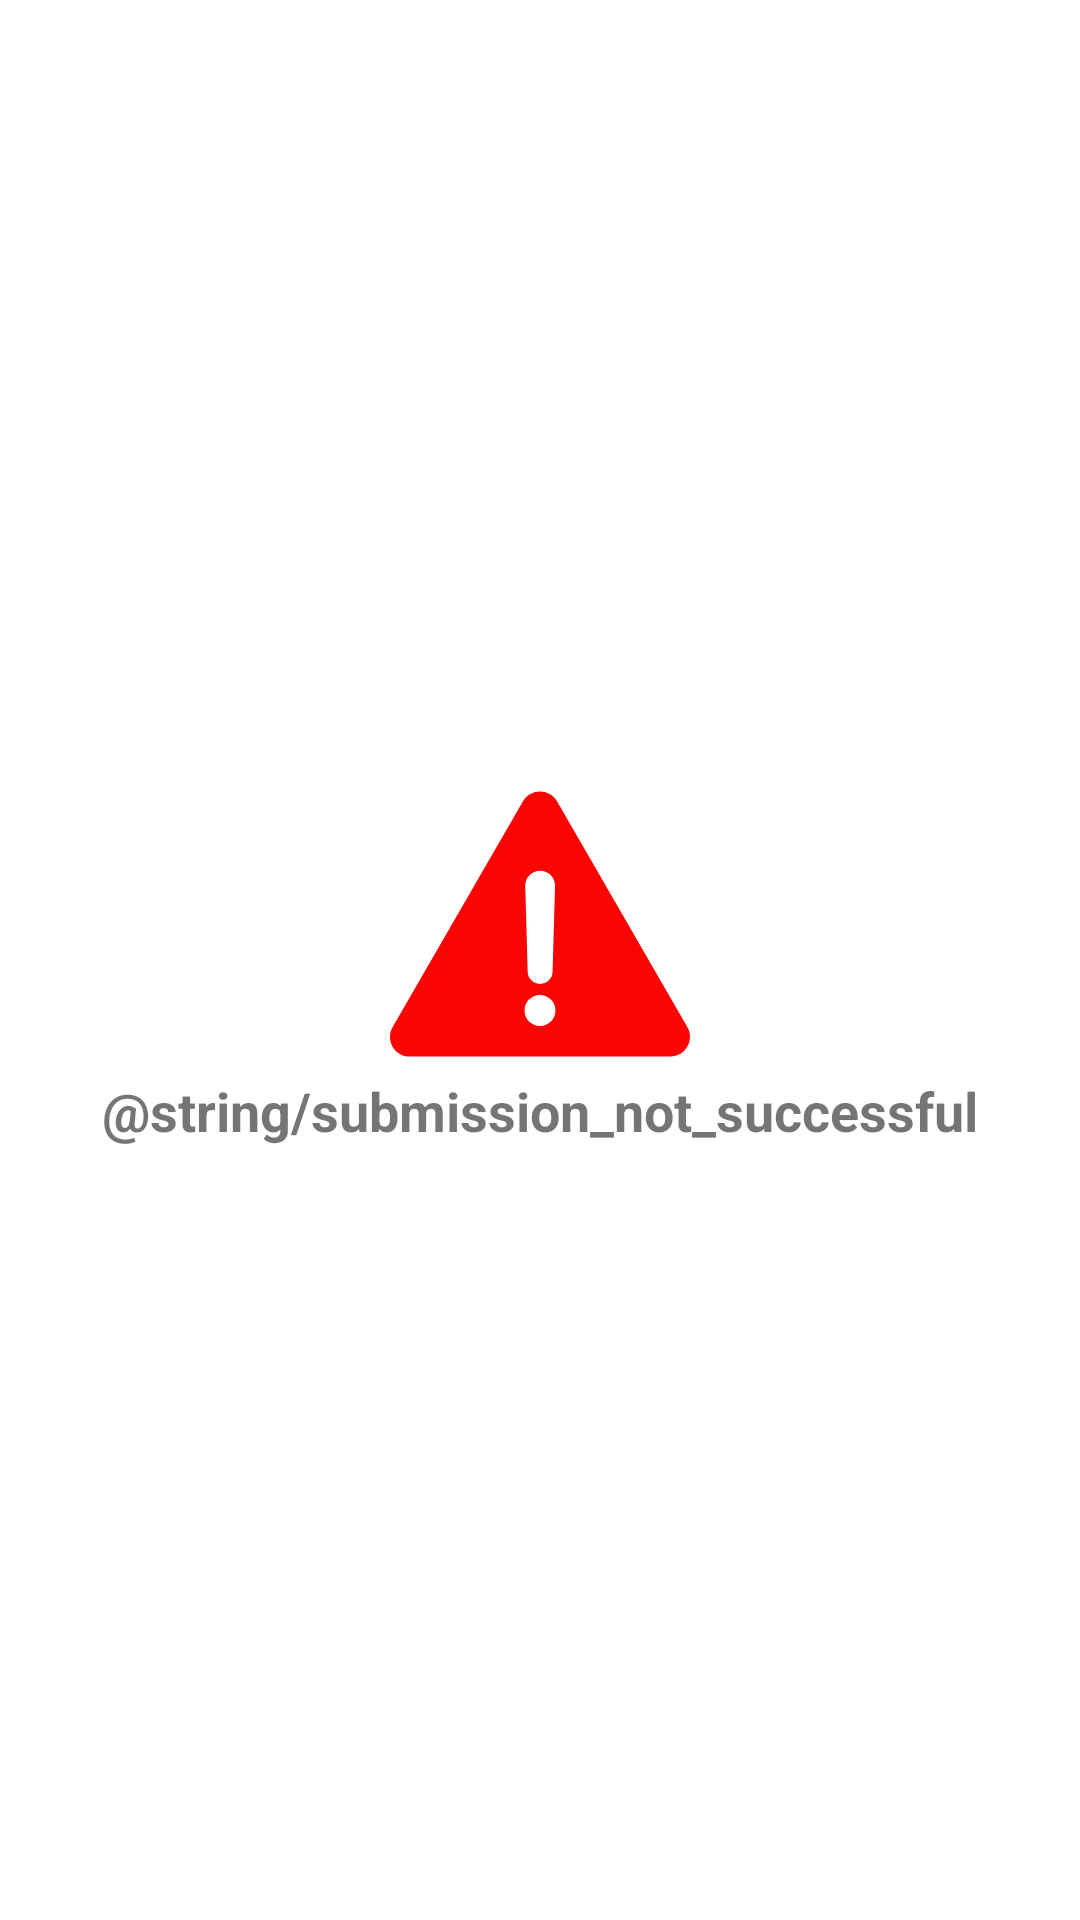

Icons on this 1080 × 1920 Android screen, each with its box as (x1, y1, x2, y2):
error: (390, 791, 690, 1057)
